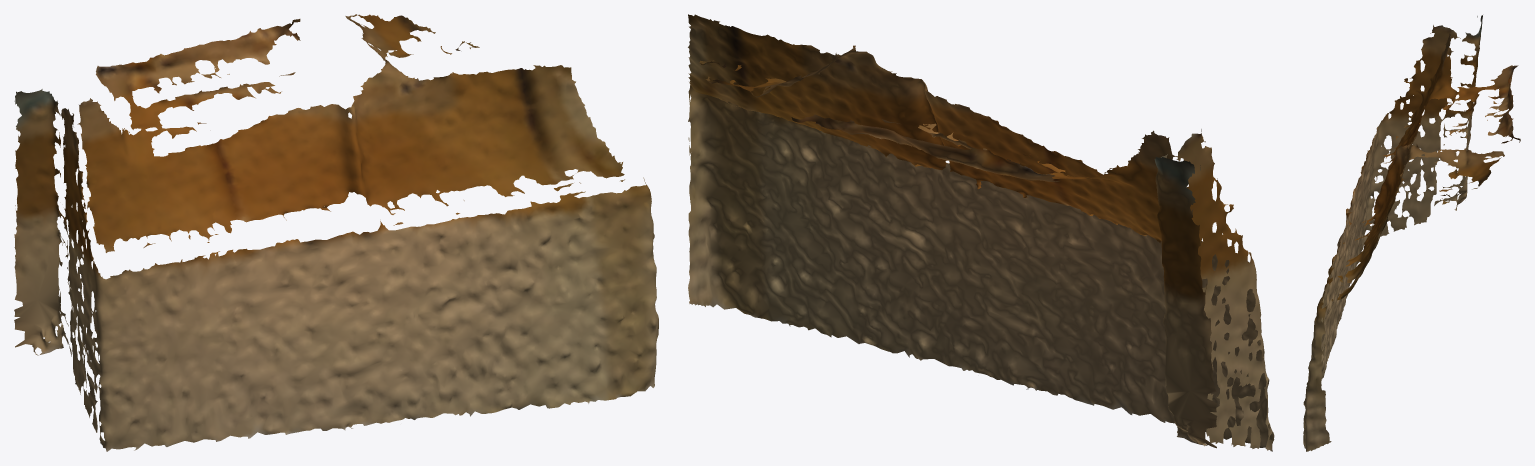
Rendered from color_model_f003_20260205_111609.obj.
3 renders of one model, left to right at view 1: azimuth 30°, elevation 25°; view 2: azimuth 150°, elevation 25°; view 3: azimuth 270°, elevation 25°, orthographic. The views are drawn at different scales.
Bounding box in the file's own units: 1.84 × 1.09 × 0.8609.
